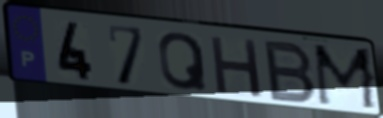4: (56, 20, 96, 83)
7: (107, 23, 145, 88)
B: (263, 38, 319, 106)
H: (208, 33, 265, 100)
M: (311, 42, 381, 113)
Q: (157, 30, 211, 93)
